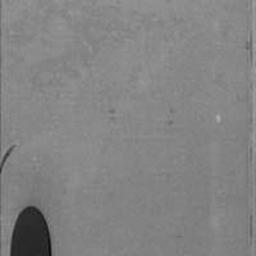Punching: (9, 205, 51, 256)
